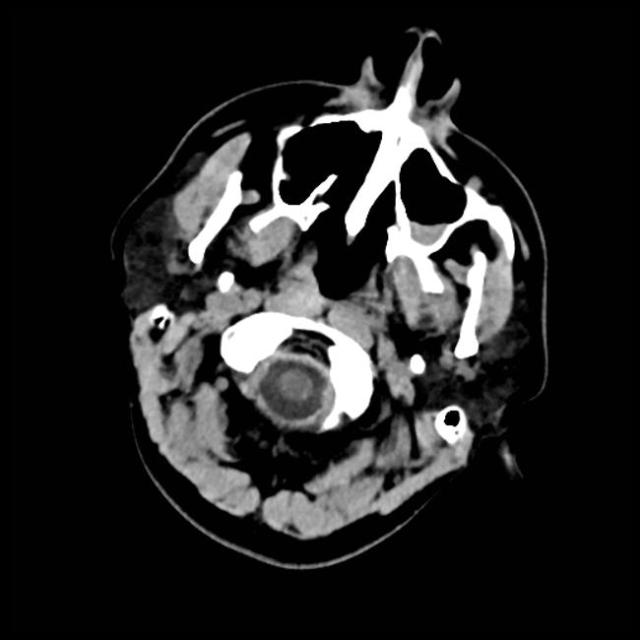lesion: (110, 26, 552, 557)
